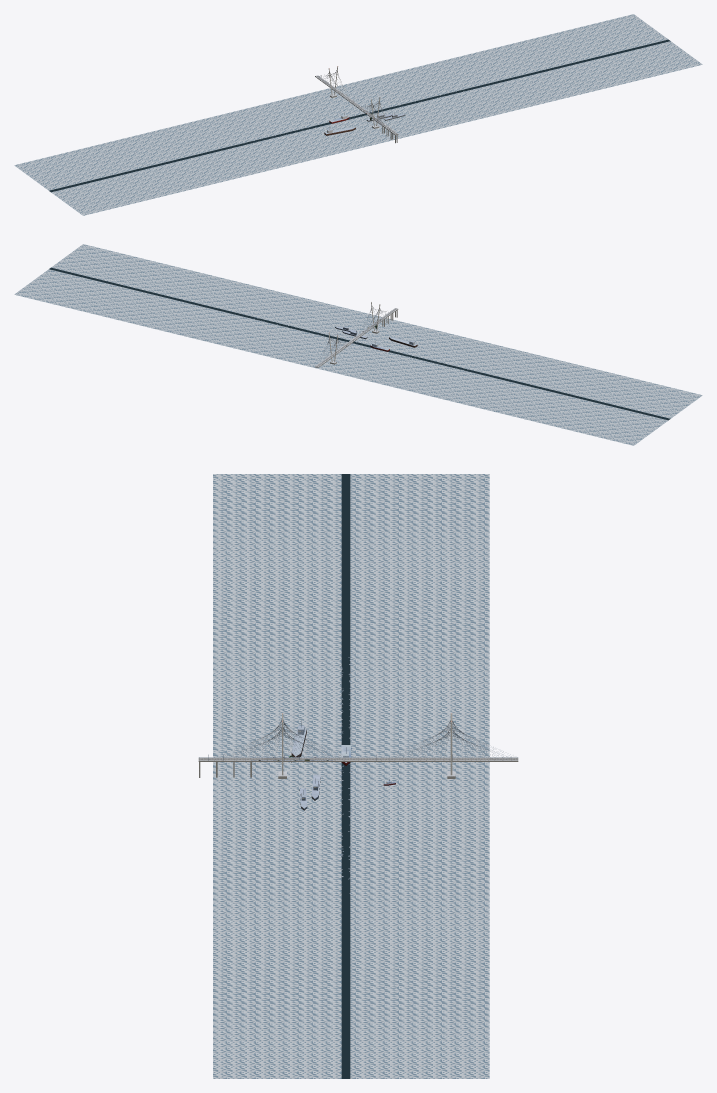
The model's file is lugar-vladivostok.glb.
The picture shows the model from 3 angles, top to bottom: view 1: azimuth 30°, elevation 25°; view 2: azimuth 150°, elevation 25°; view 3: azimuth 270°, elevation 25°; orthographic projection. The views are drawn at different scales.
Visible parts, largest first — view 1: luzG-hielo, planoE, vert-cerca, luzS-pista; view 2: luzG-hielo, planoE, vert-cerca, luzS-pista; view 3: luzG-hielo, planoE, vert-cerca, luzS-pista.
Boxes of the visible parts, x1,y1,x2,y2 form: luzG-hielo: (14, 14, 702, 215); planoE: (49, 39, 670, 192); vert-cerca: (244, 70, 478, 143); luzS-pista: (315, 66, 398, 143); luzG-hielo: (14, 244, 702, 445); planoE: (49, 267, 670, 420); vert-cerca: (238, 305, 477, 373); luzS-pista: (315, 302, 398, 367); luzG-hielo: (213, 474, 489, 1078); planoE: (282, 474, 451, 1078); vert-cerca: (199, 657, 517, 893); luzS-pista: (198, 713, 518, 778).
Bounding box in the file's own units: 3000 × 139 × 670.
14 materials, 7 textured.
